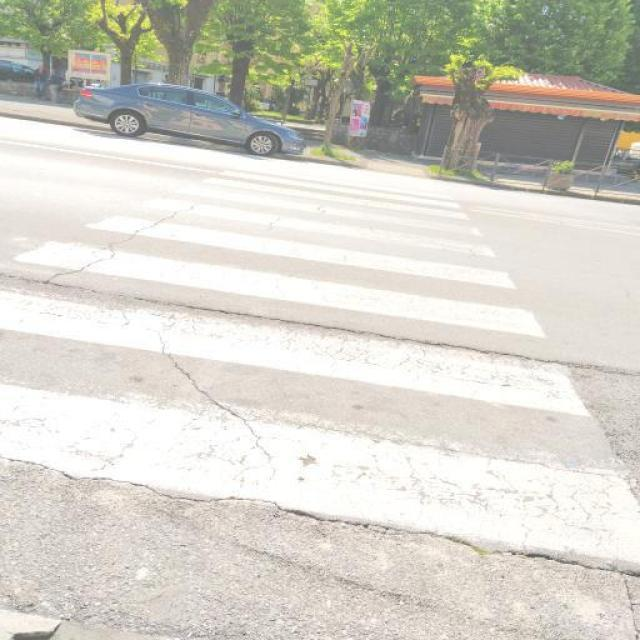crosswalk: (0, 155, 637, 640)
